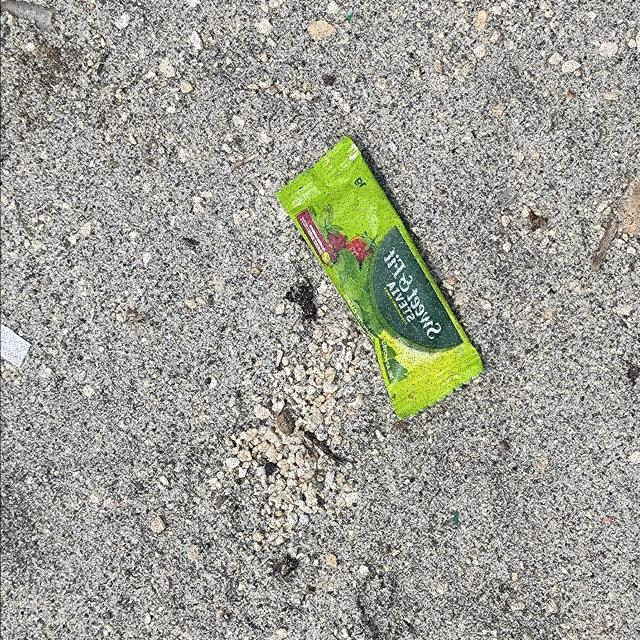plastic_waste: (274, 135, 486, 423)
